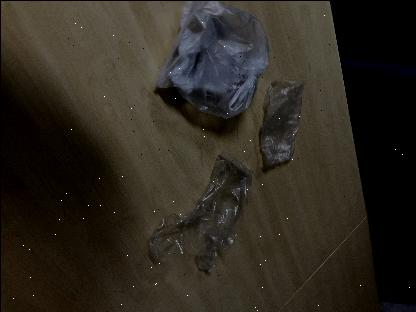Others: (141, 147, 267, 279), (154, 5, 270, 126), (258, 78, 306, 166)
